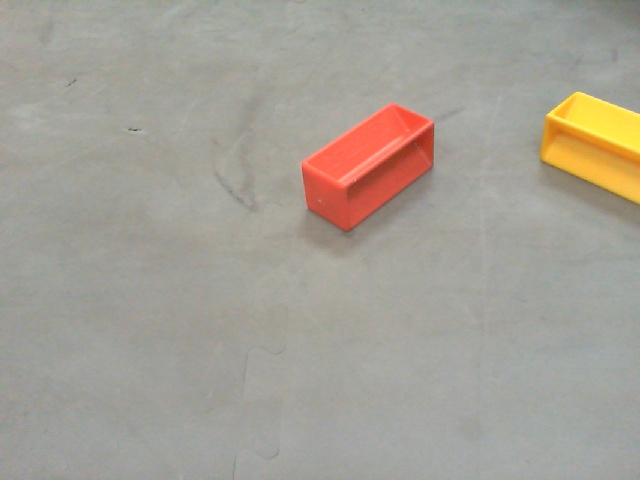RedSample: (299, 101, 437, 231)
YellowSample: (538, 82, 640, 202)
